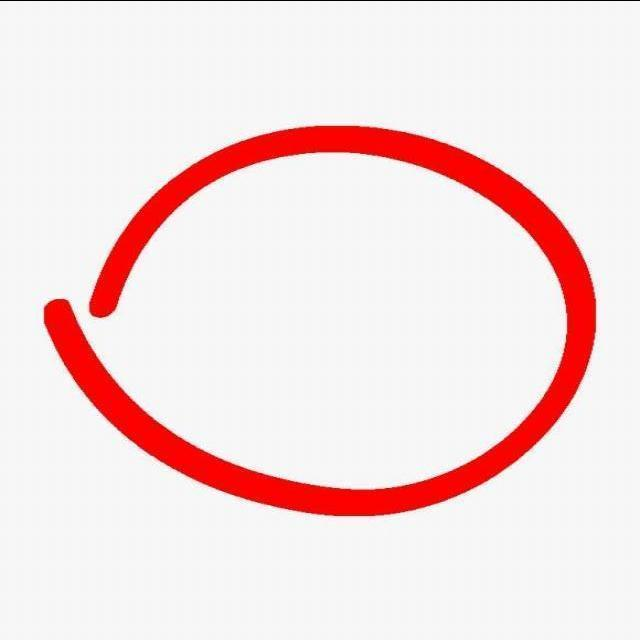redcircle: (45, 119, 601, 520)
